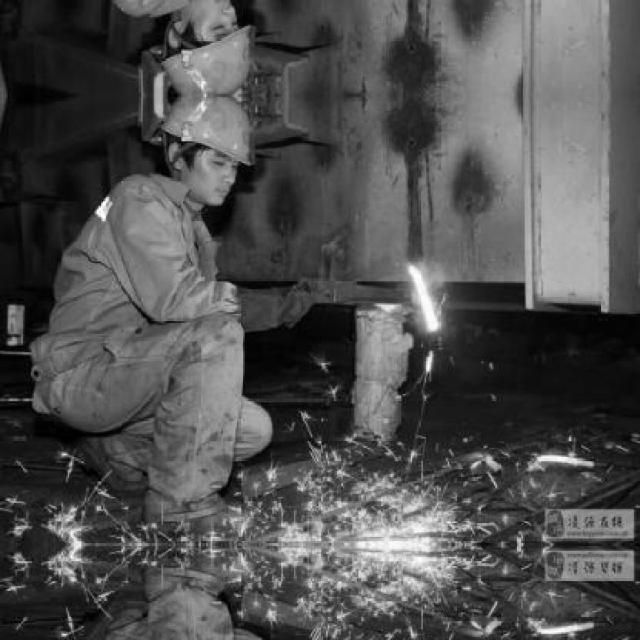hat: (159, 95, 259, 207), (157, 0, 258, 94)
